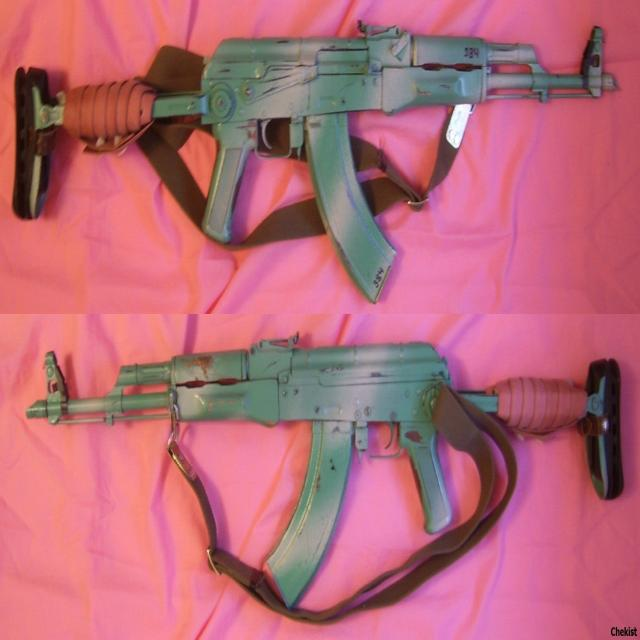firearm: (9, 13, 622, 312), (24, 322, 626, 616)
